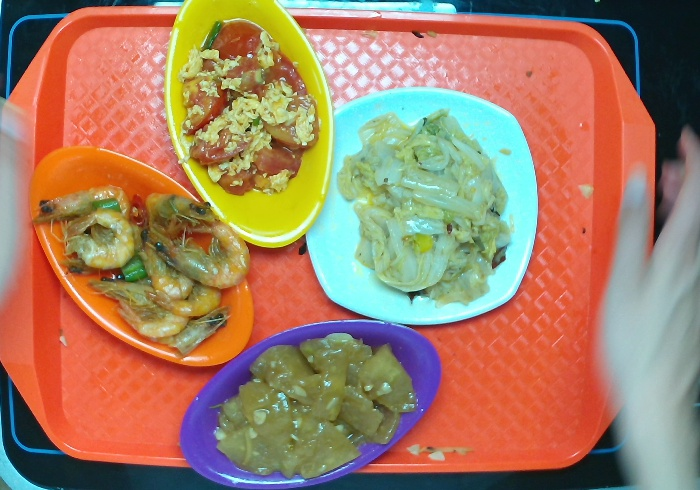RJxy-Fen_Hong_Tuo_Yuan: (172, 313, 446, 490)
RJxy-Huang_Se_Tuo_Yuan: (159, 1, 340, 253)
RJxy-Ju_Huang_Tuo_Yuan: (23, 140, 260, 372)
RJxy-Si_Fang_Die: (299, 82, 544, 329)
